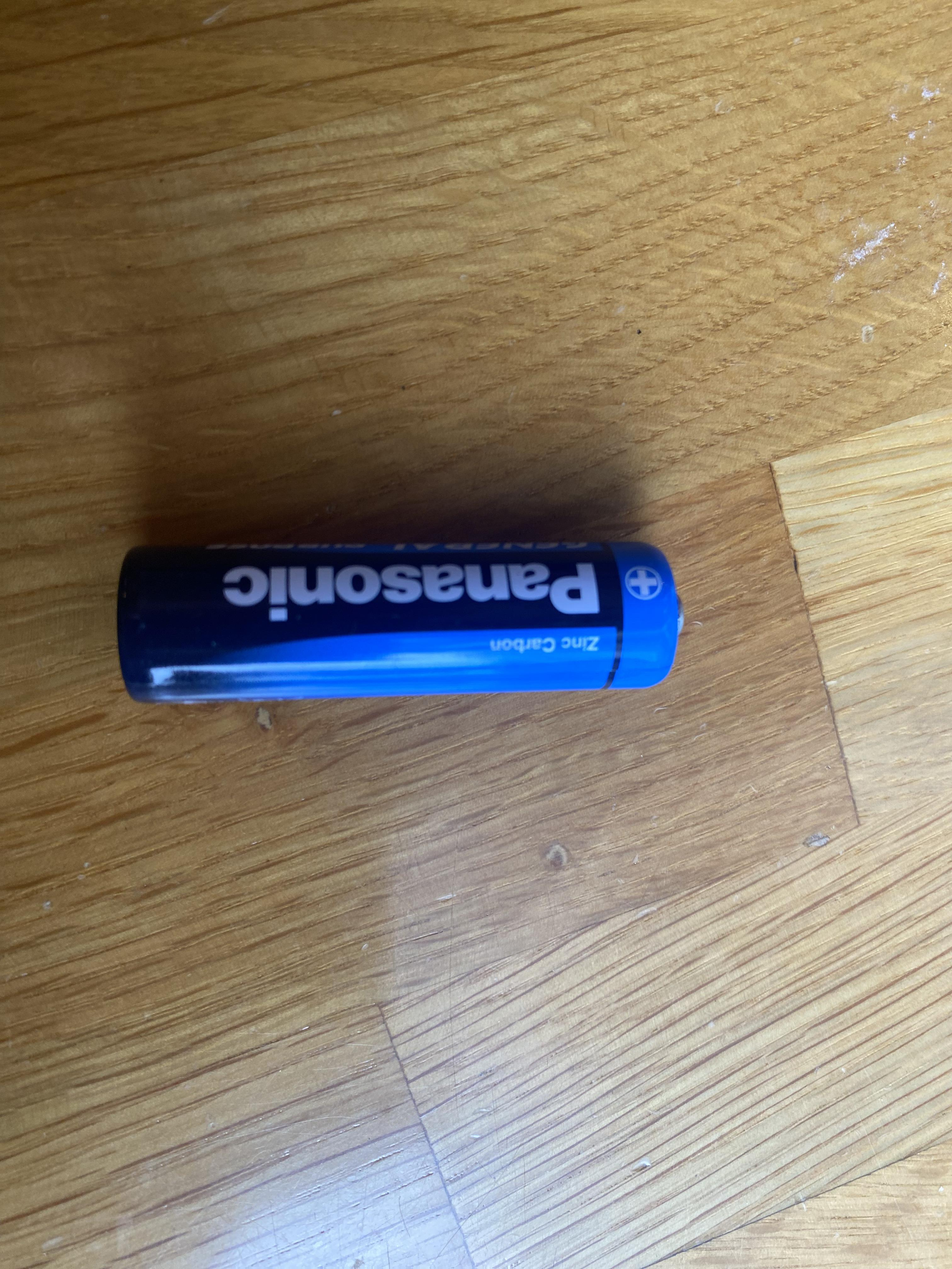AA: (115, 537, 684, 704)
